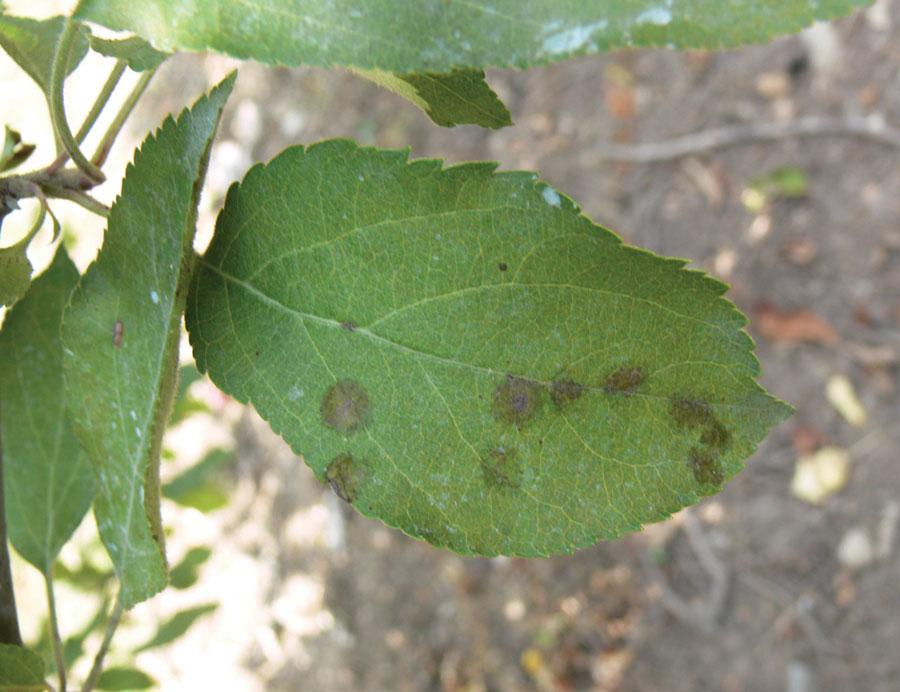Apple Scab Leaf: (184, 129, 821, 580), (56, 60, 239, 648)
